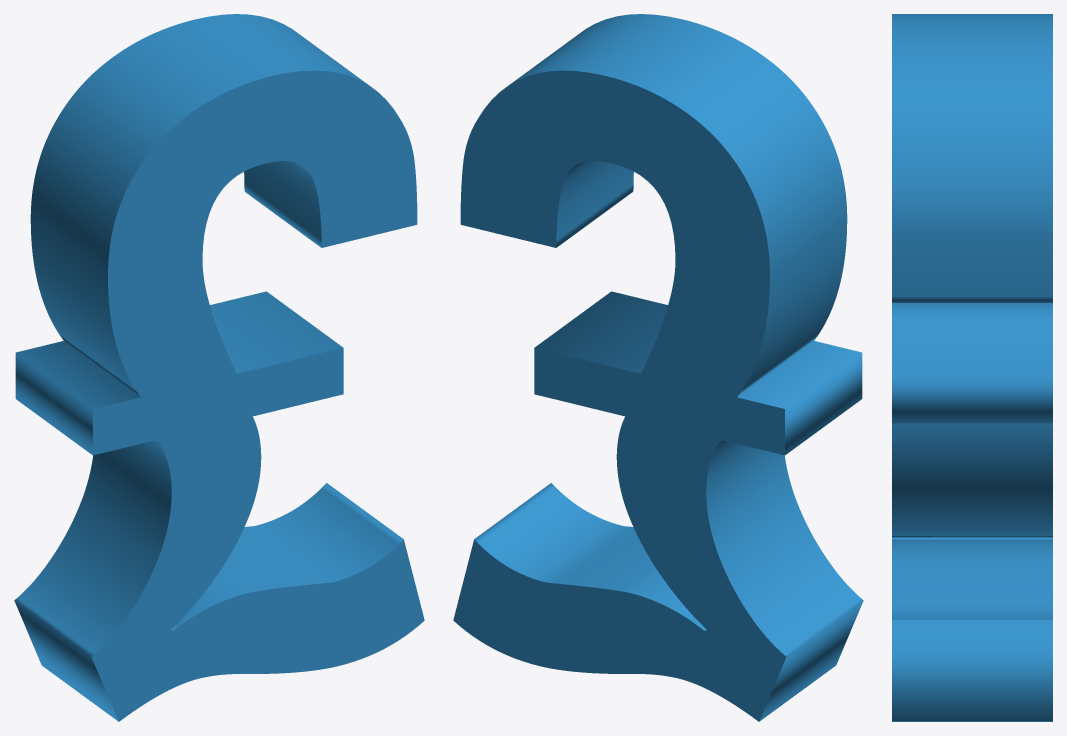
The picture shows the model from 3 angles, left to right: view 1: azimuth 30°, elevation 25°; view 2: azimuth 150°, elevation 25°; view 3: azimuth 270°, elevation 25°; orthographic projection. The views are drawn at different scales.
Visible parts, largest first — view 1: Text; view 2: Text; view 3: Text.
Boxes of the visible parts, bbox=[...] form: Text: bbox=[14, 14, 424, 721]; Text: bbox=[453, 14, 863, 721]; Text: bbox=[892, 14, 1052, 721].
Bounding box in the file's own units: 1.5 × 2.61 × 0.6.
